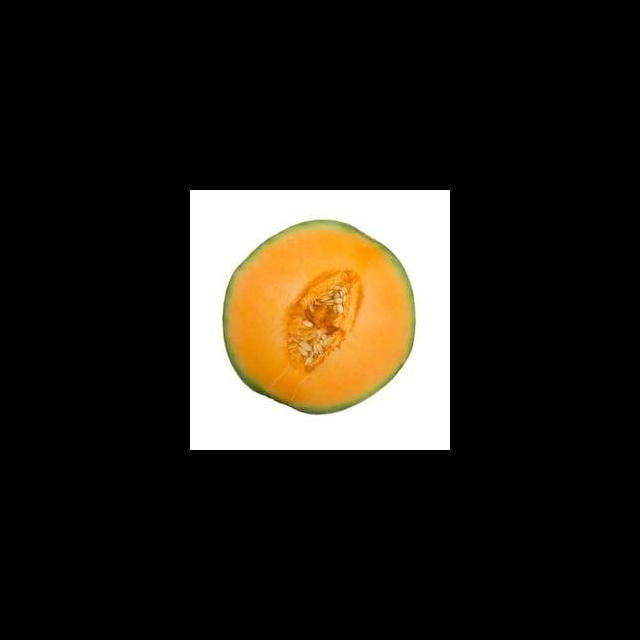Hami Melon: (223, 219, 416, 414)
